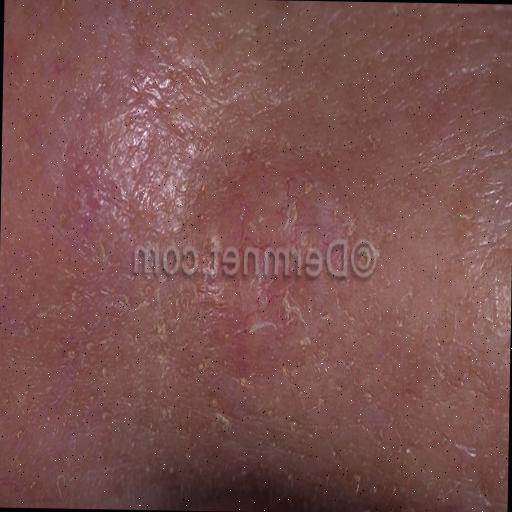Skin_Lesion: (192, 167, 365, 376)
